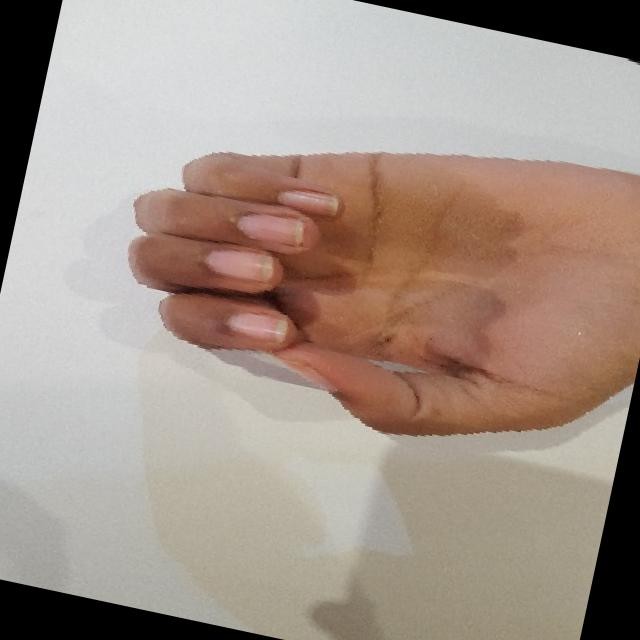Nail: (236, 212, 304, 247), (204, 249, 273, 283), (227, 311, 289, 342), (276, 189, 338, 216), (285, 360, 332, 390)
